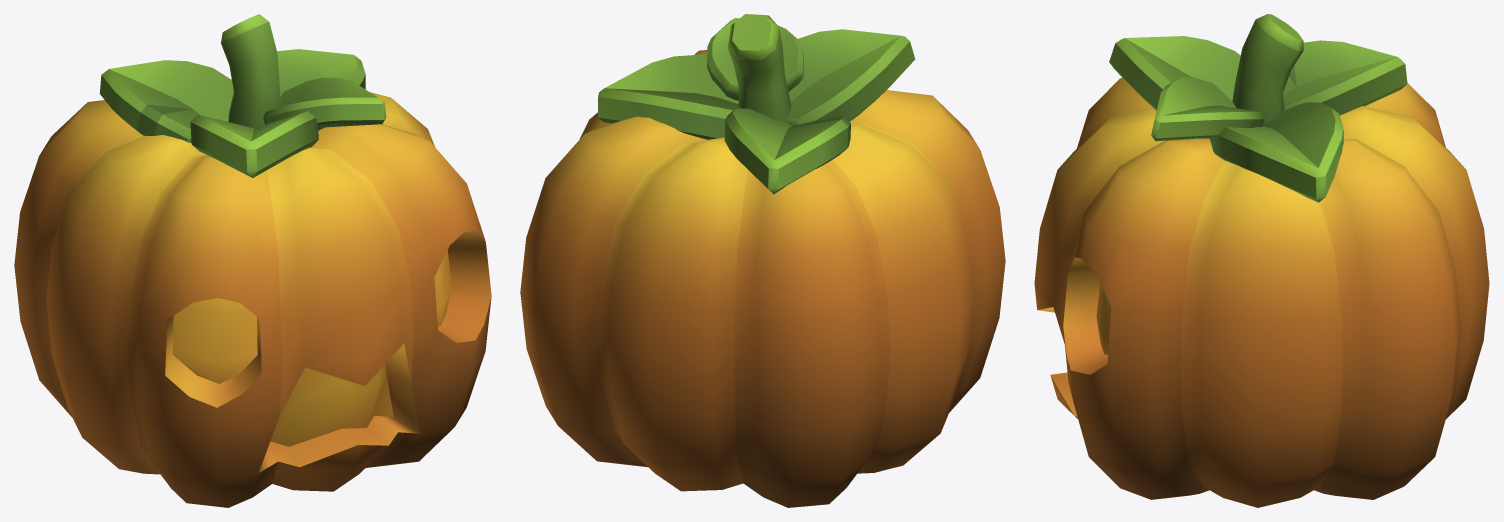
Rendered from pumpkin_2.fbx.
3 renders of one model, left to right at view 1: azimuth 30°, elevation 25°; view 2: azimuth 150°, elevation 25°; view 3: azimuth 270°, elevation 25°, orthographic. The views are drawn at different scales.
Parts seen in each view (by area): view 1: pumpkin_2; view 2: pumpkin_2; view 3: pumpkin_2.
Boxes of the visible parts, left/top/right/bottom form: pumpkin_2: left=14, top=14, right=491, bottom=507; pumpkin_2: left=520, top=14, right=1005, bottom=507; pumpkin_2: left=1034, top=14, right=1489, bottom=507.
Size of the model in its own units: 133 by 142 by 133.
